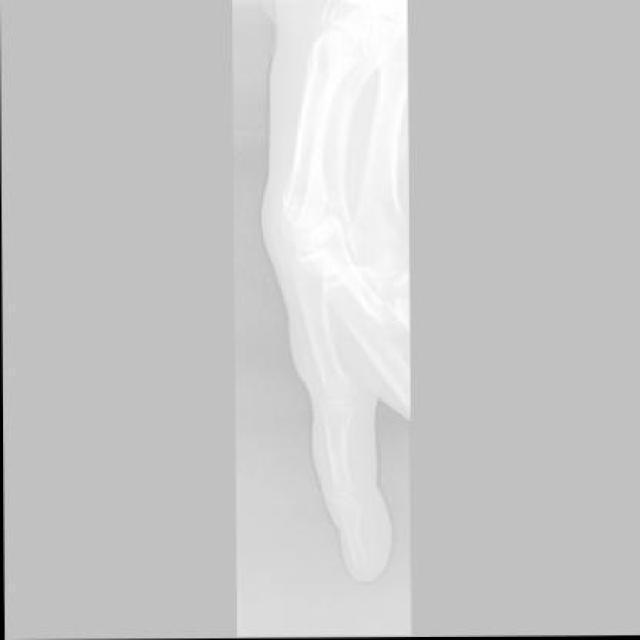Fracture: (329, 494, 363, 521)
